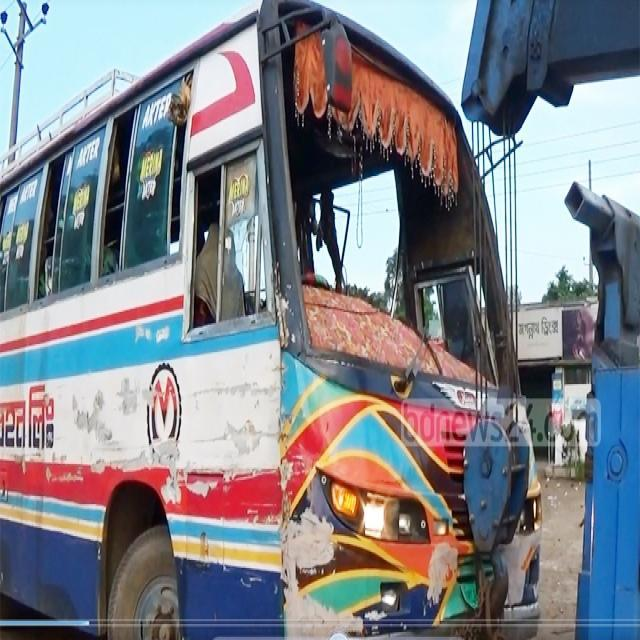Bus: (4, 1, 546, 640)
